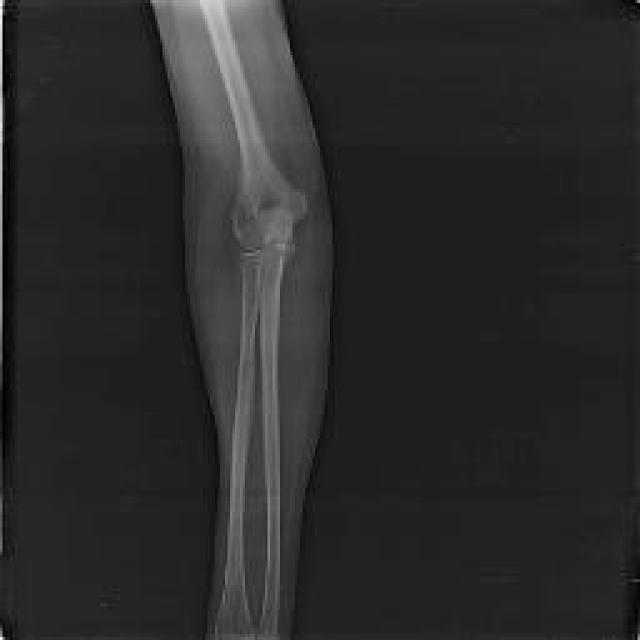normal: (201, 0, 305, 638)
